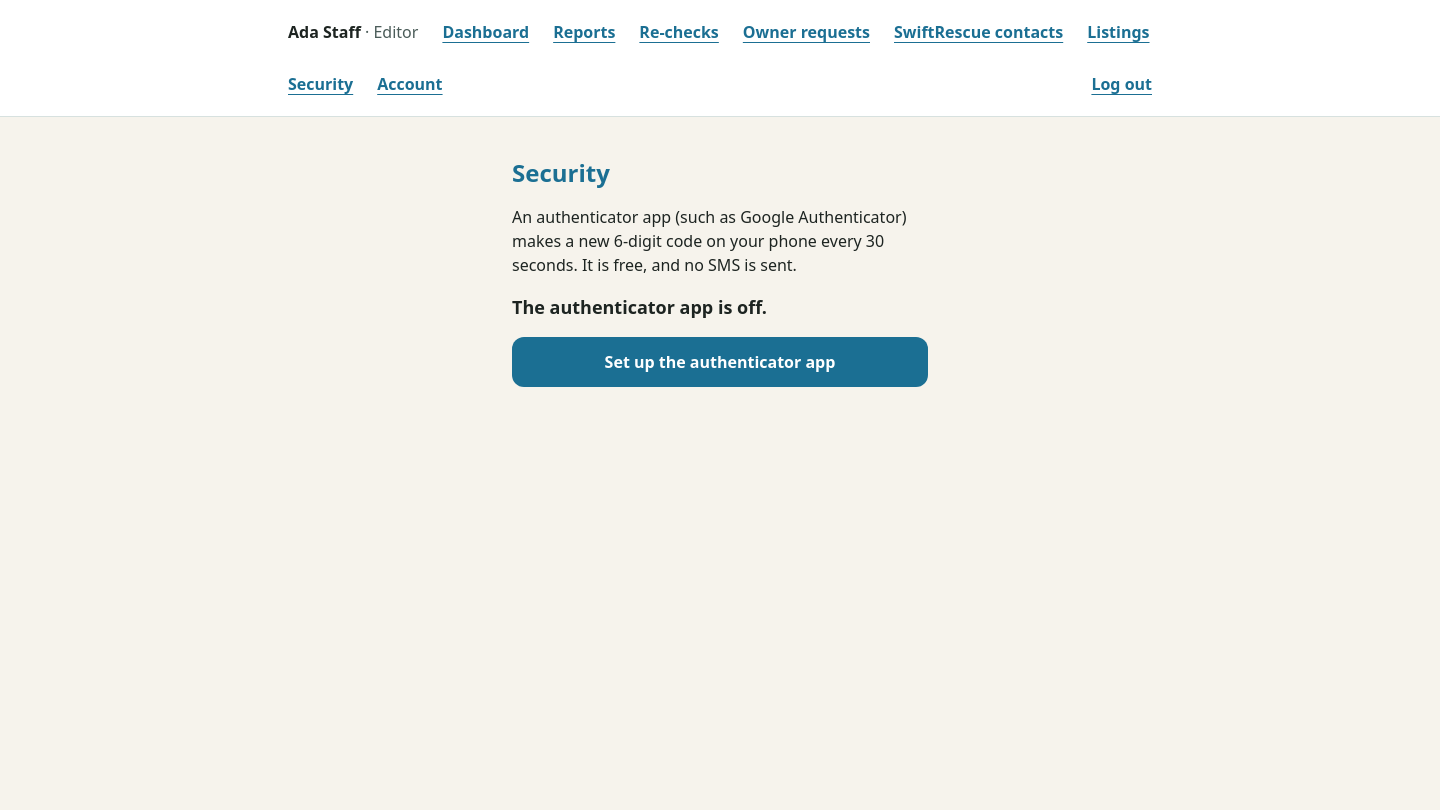
Test: switching it on › does not ask the server before a password is typed
Expected: the heading "Security" is shown, [512, 156, 610, 189]
Step 1. Click the button "Set up the authenticator app" → (720, 362), box [512, 337, 928, 387]
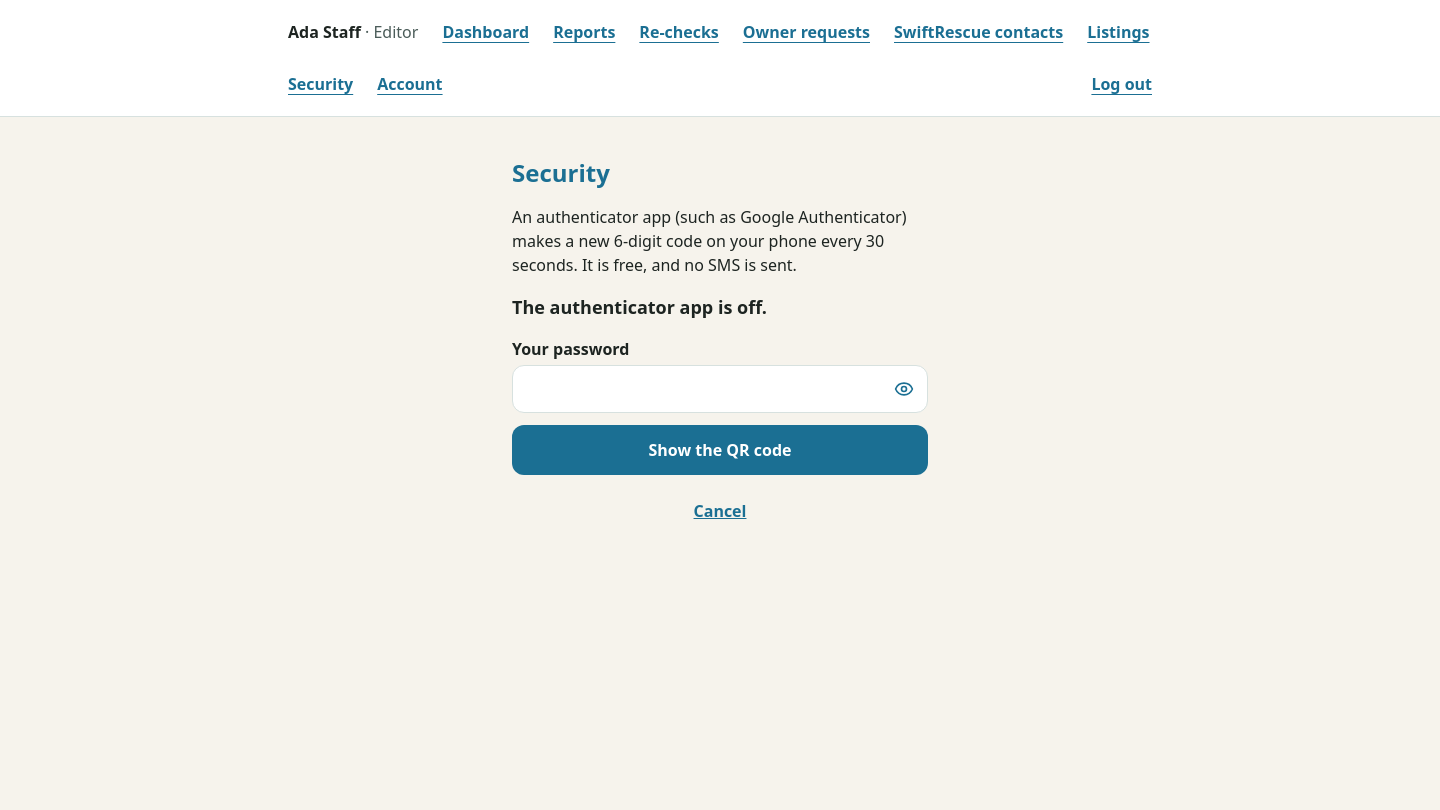
Step 2. Click the button "Show the QR code" → (720, 450), box [512, 425, 928, 475]
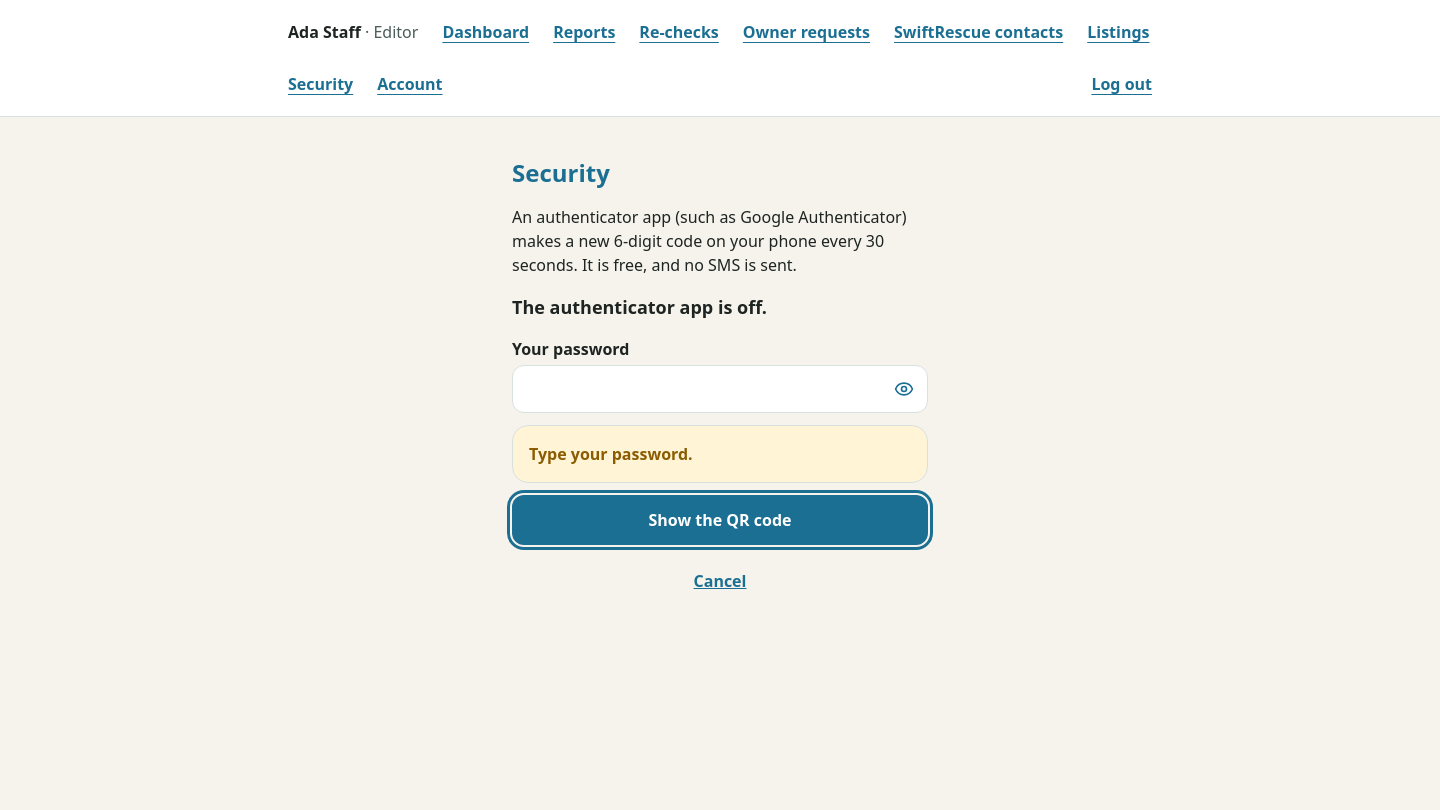
Expected: the text "Type your password." is shown, [512, 425, 928, 483]
